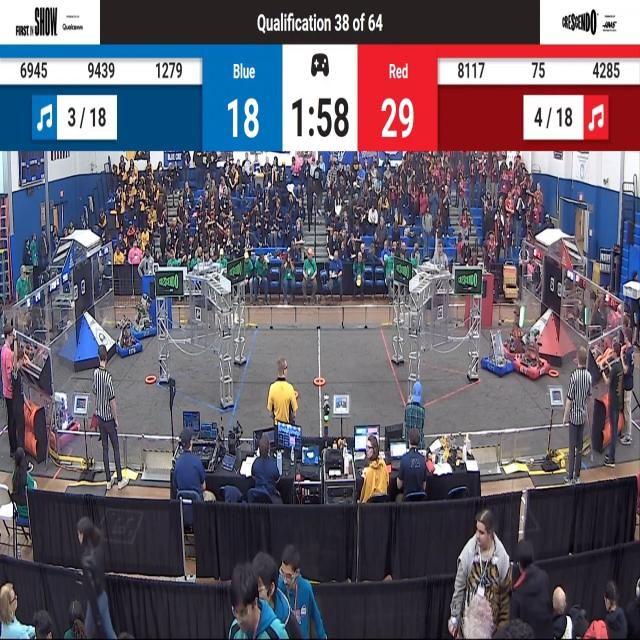Robot: (513, 305, 560, 384), (42, 376, 83, 445), (502, 290, 532, 361), (481, 320, 513, 378), (112, 306, 141, 360), (132, 292, 156, 339)
